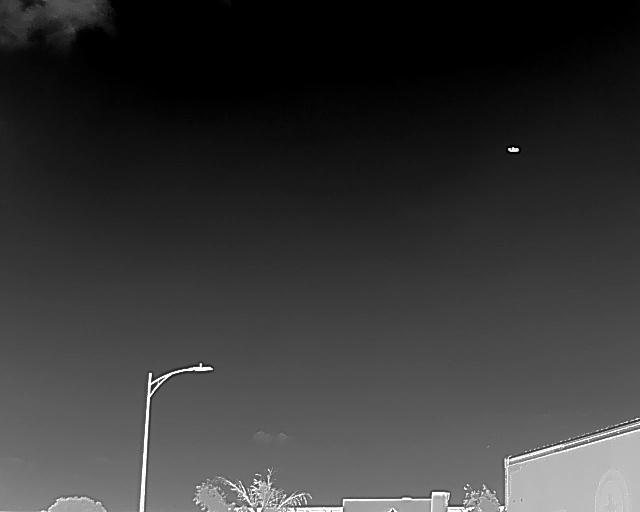fpv-drone: (506, 146, 520, 153)
